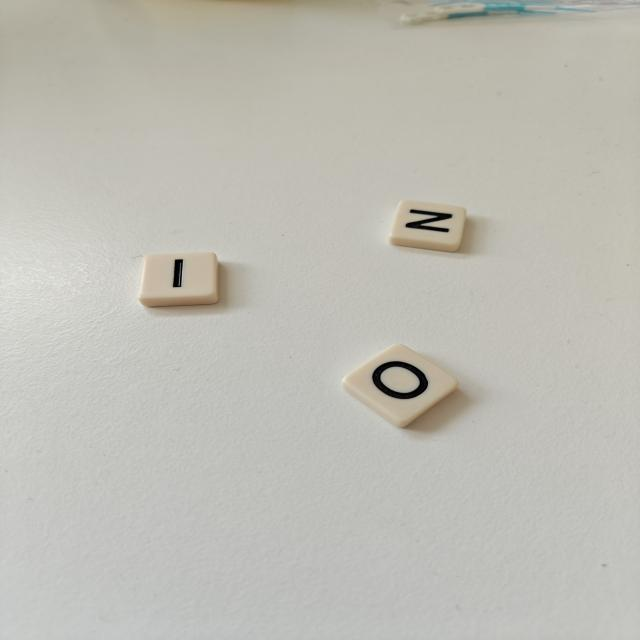i: (139, 252, 218, 307)
n: (389, 200, 466, 251)
o: (342, 344, 458, 428)
